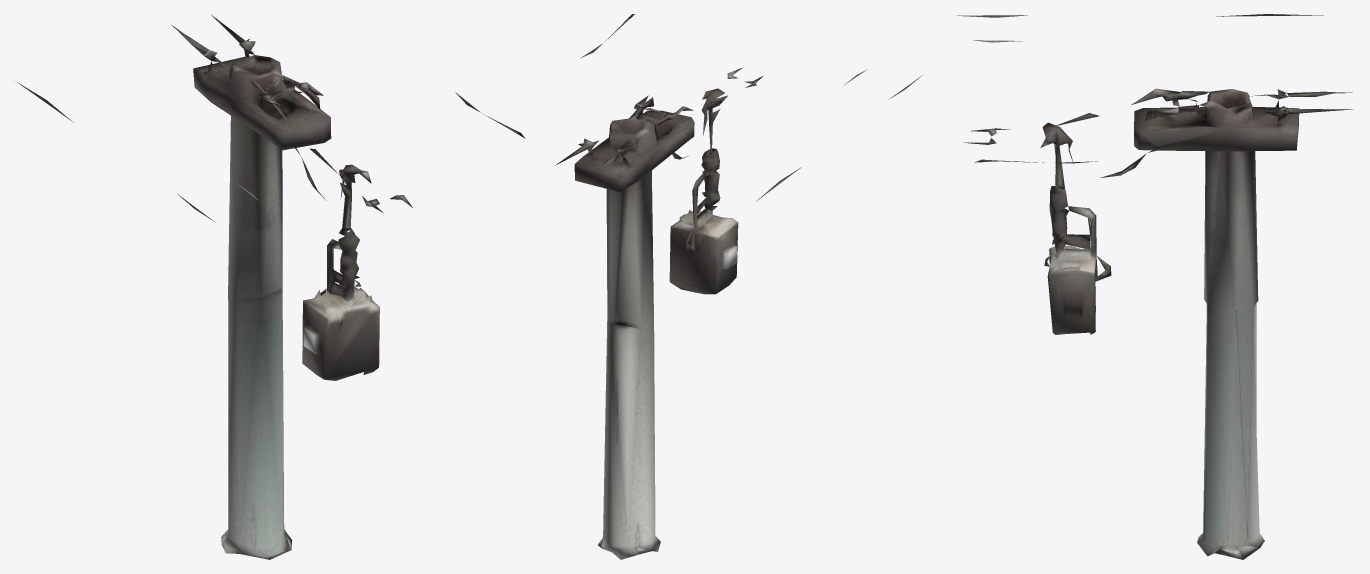
The model's file is prop3d-pole.glb.
3 views of the same model, side by side, from view 1: azimuth 30°, elevation 25°; view 2: azimuth 150°, elevation 25°; view 3: azimuth 270°, elevation 25° (orthographic). The views are drawn at different scales.
Bounding box in the file's own units: 1.41 × 2 × 1.63.
1 material, 1 textured.
